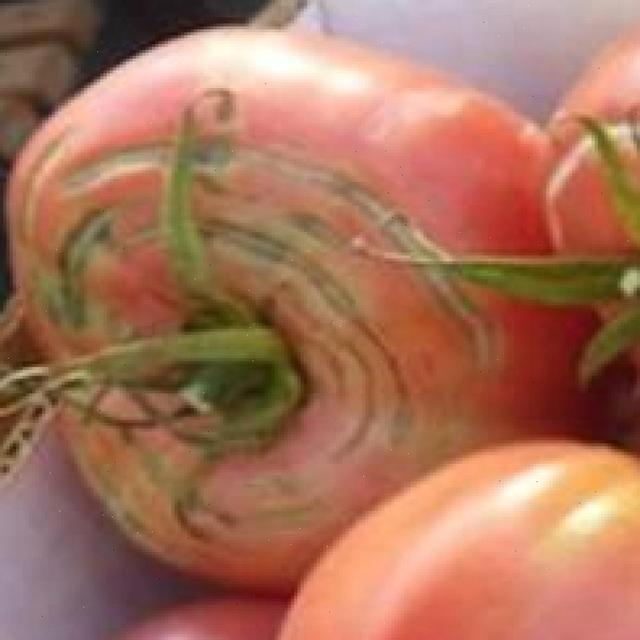Cracking Fruit: (27, 91, 313, 321)
